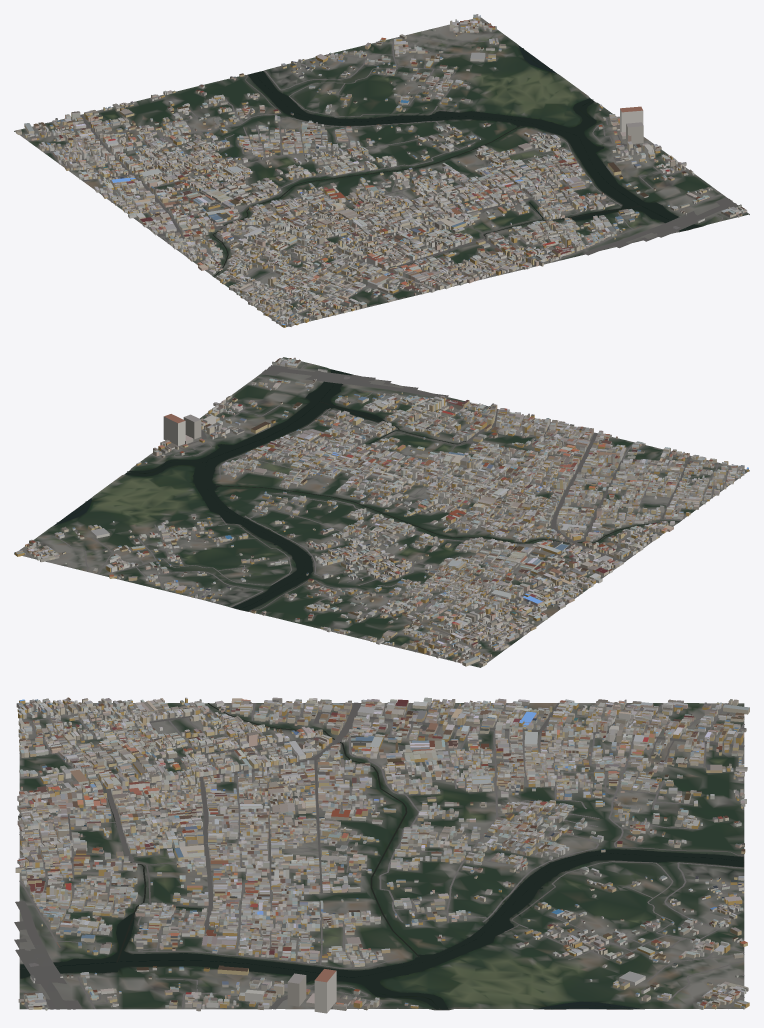
3 views of the same model, one above another, from view 1: azimuth 30°, elevation 25°; view 2: azimuth 150°, elevation 25°; view 3: azimuth 270°, elevation 25° (orthographic). The views are drawn at different scales.
Visible parts, largest first — view 1: buildings, ground, roads, water; view 2: buildings, ground, roads, water; view 3: buildings, ground, roads, water.
Boxes of the visible parts, x1=… form: buildings: x1=15, y1=14, x2=747, y2=327; ground: x1=14, y1=17, x2=749, y2=327; roads: x1=20, y1=21, x2=746, y2=322; water: x1=212, y1=45, x2=701, y2=276; buildings: x1=14, y1=357, x2=748, y2=666; ground: x1=19, y1=357, x2=749, y2=667; roads: x1=20, y1=364, x2=741, y2=662; water: x1=53, y1=369, x2=679, y2=611; buildings: x1=15, y1=697, x2=749, y2=1013; ground: x1=19, y1=702, x2=744, y2=1010; roads: x1=14, y1=702, x2=744, y2=1009; water: x1=20, y1=703, x2=743, y2=1009.
Bounding box in the file's own units: 1426 × 70.95 × 1423.
